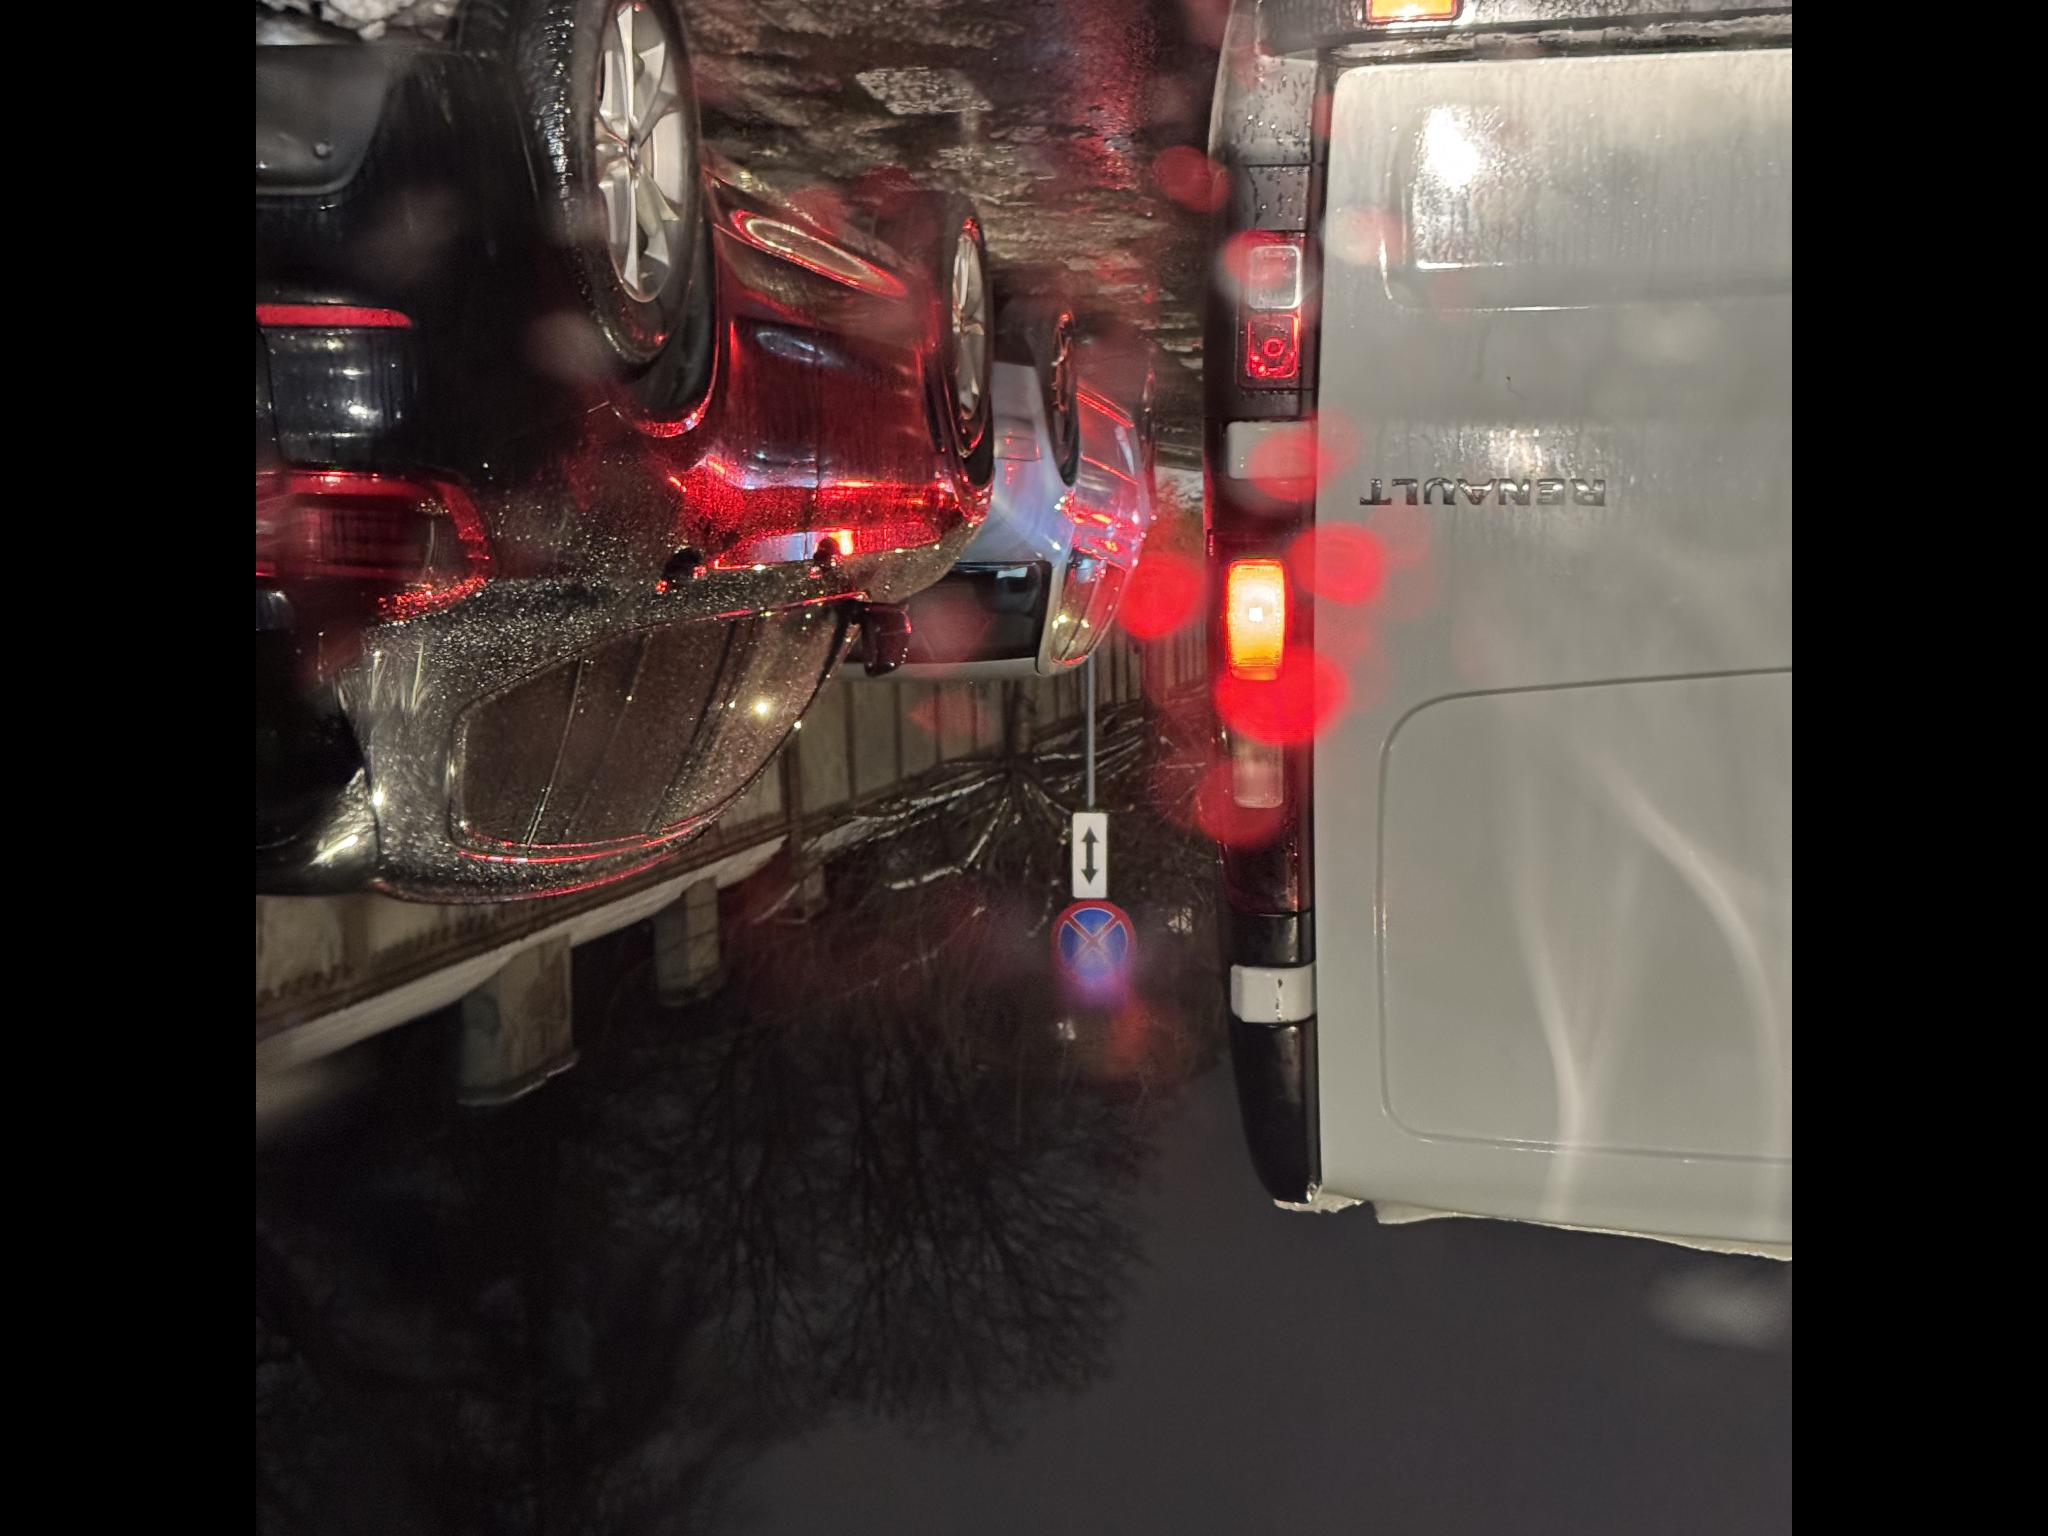other: (1151, 1071, 1238, 1108)
prohibitory: (1059, 1049, 1151, 1137)
